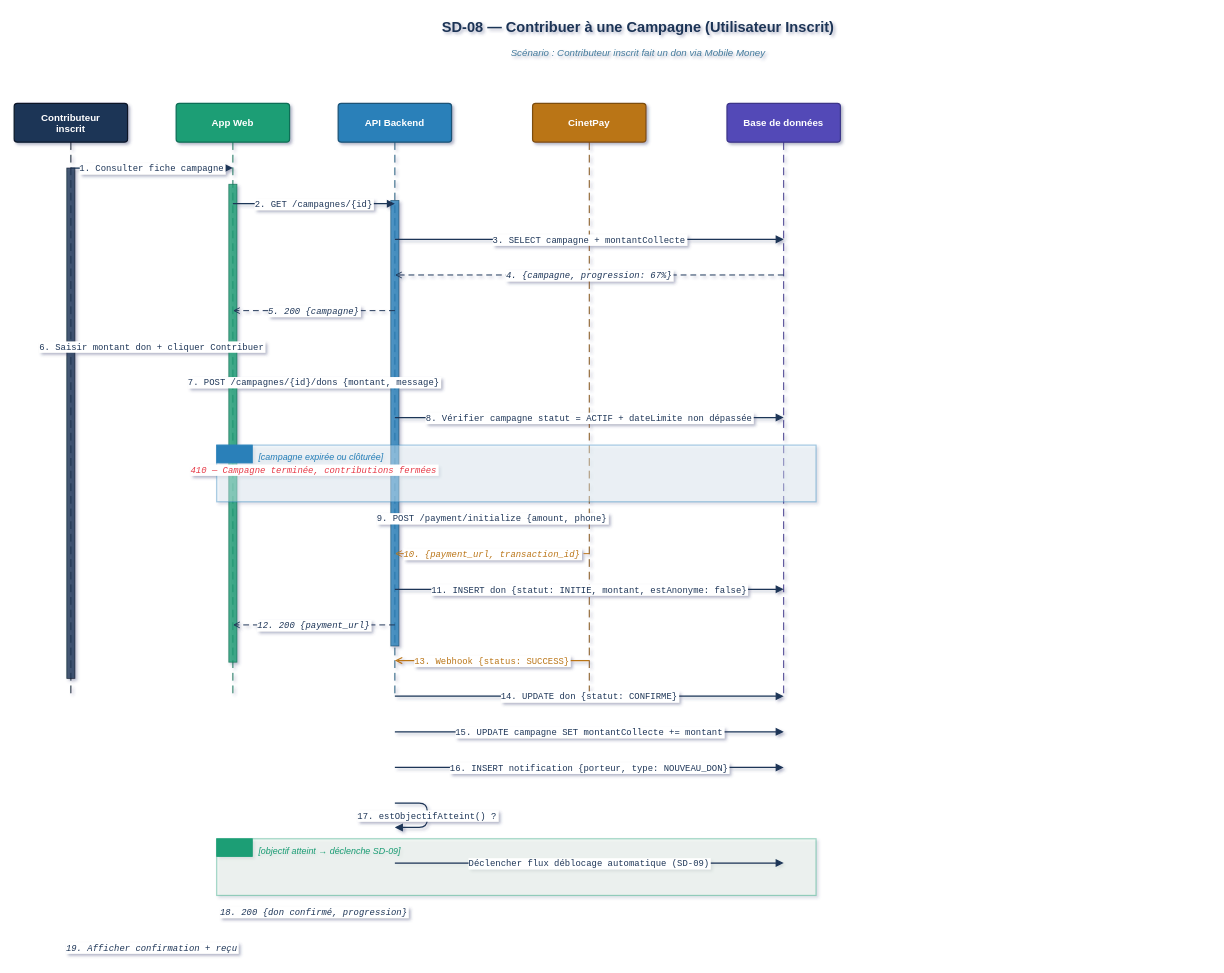
This 1224x973 diagram has some shape labels left out. Each missing label, with the centre of its shape:
"alt" belongs at point 234,453.
"opt" belongs at point 234,847.
